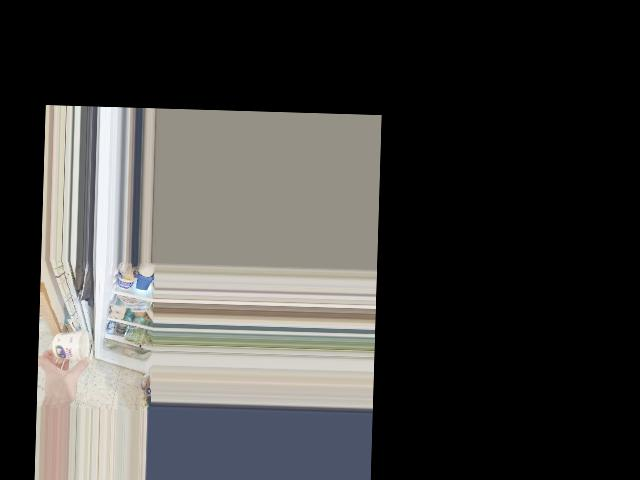cotage: (50, 336, 83, 361)
